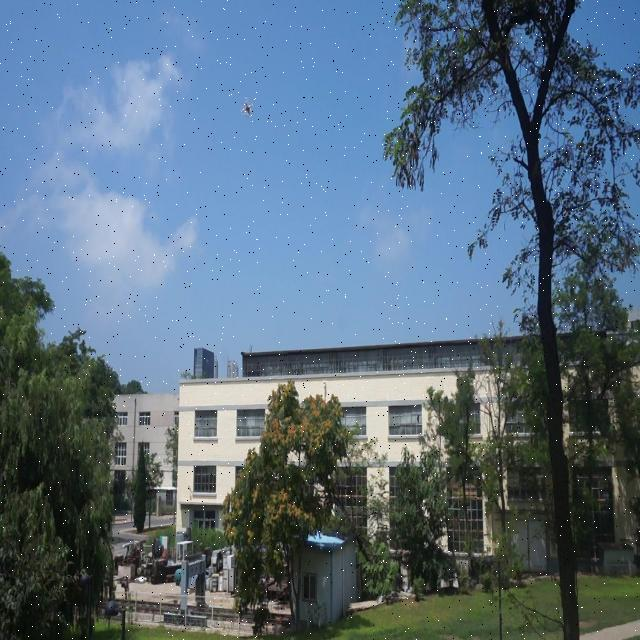UAV: (240, 96, 253, 118)
